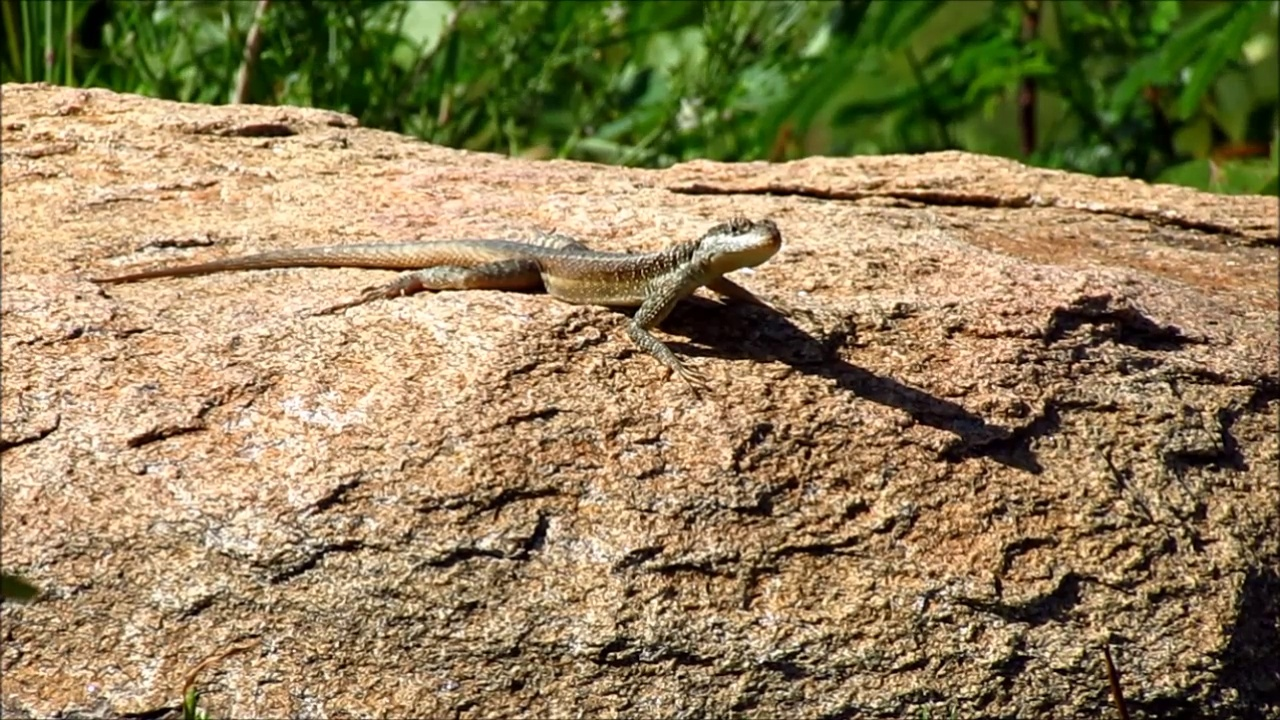body: (85, 222, 710, 399)
head: (688, 219, 782, 268)
